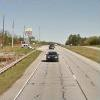Car: (43, 41, 59, 63)
